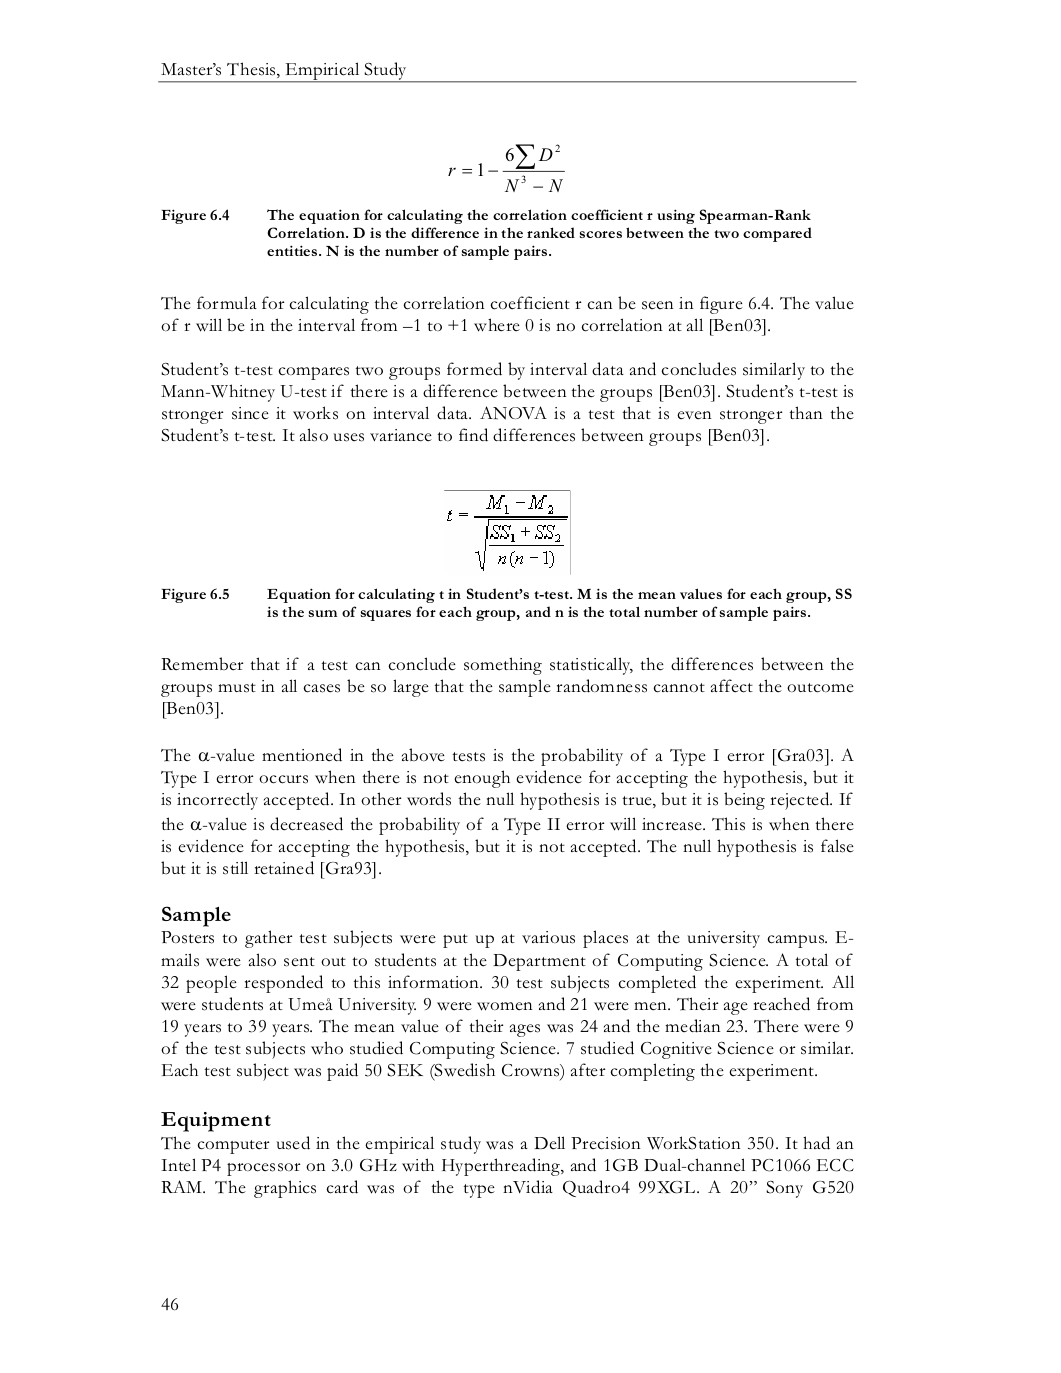formula: (444, 489, 570, 572), (448, 142, 564, 193)
